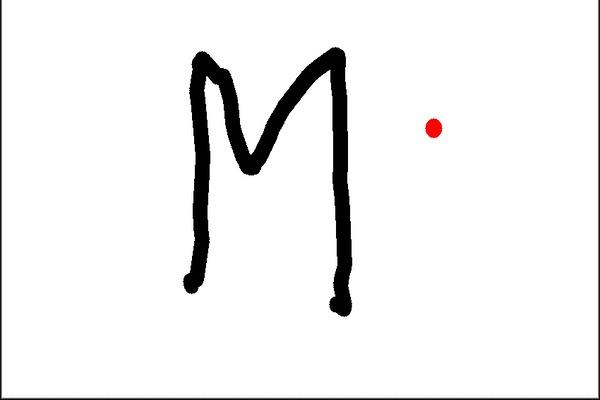M: (175, 42, 357, 319)
